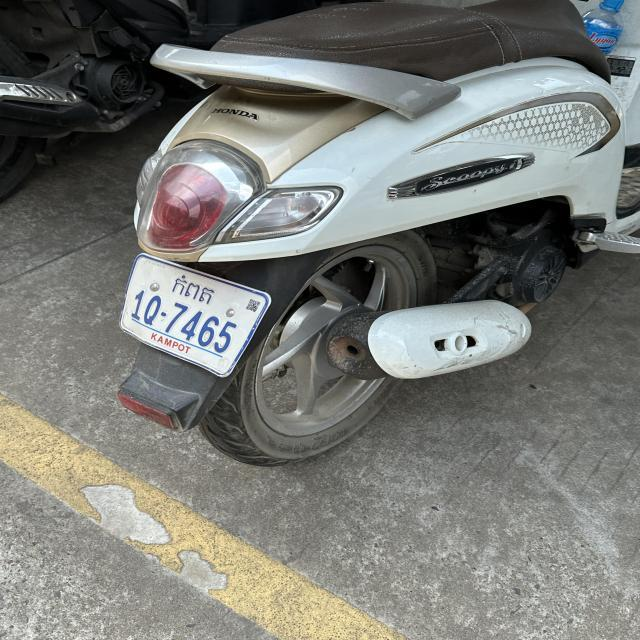Kampot: (171, 273, 214, 304)
